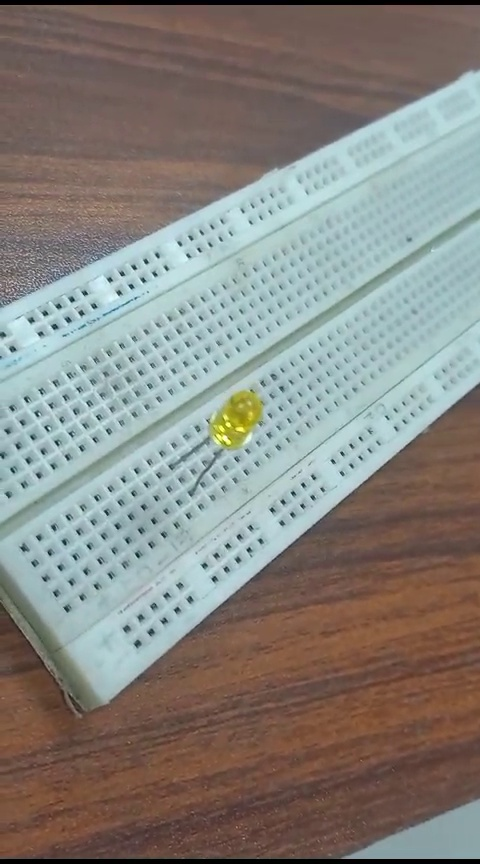LED: (170, 387, 255, 497)
